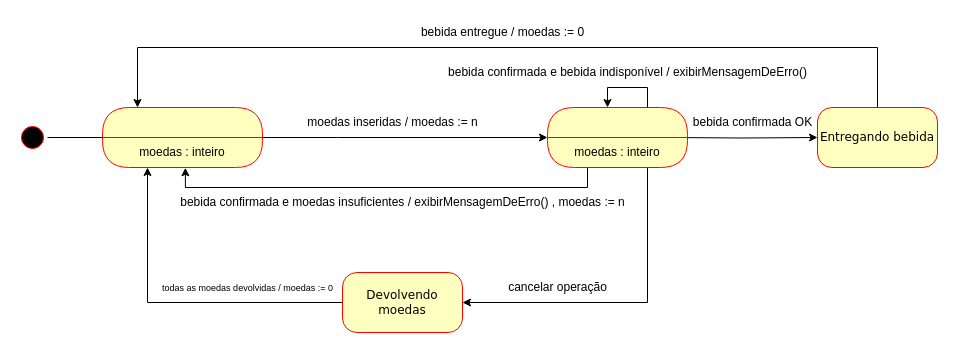
This 955x350 diagram has some shape labels left out. The shapes that lost their labels are listed below. From the top down, each one's box as (x1, y1, x2, y2) in pixels, then its label:
(102, 106, 262, 168): Idle
(546, 106, 688, 168): Selecionando bebida
